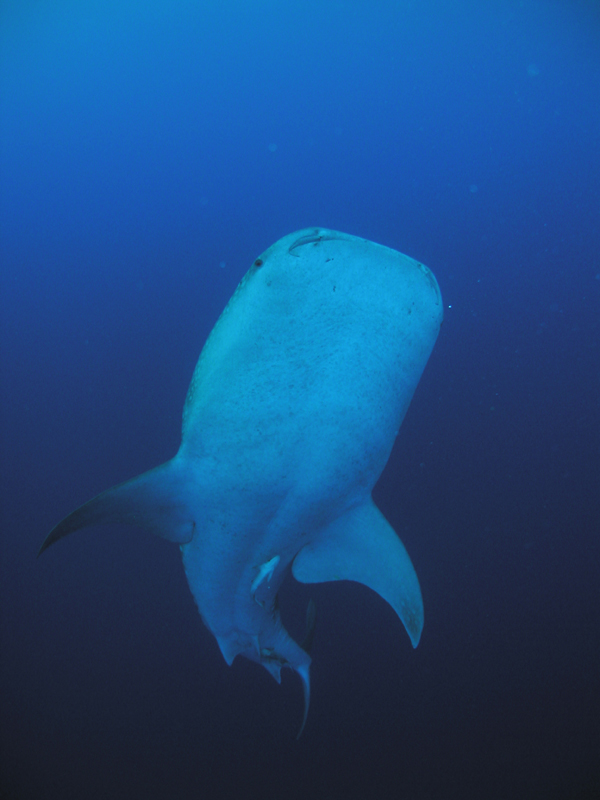Rhincodon_typusw: (57, 197, 477, 753)
